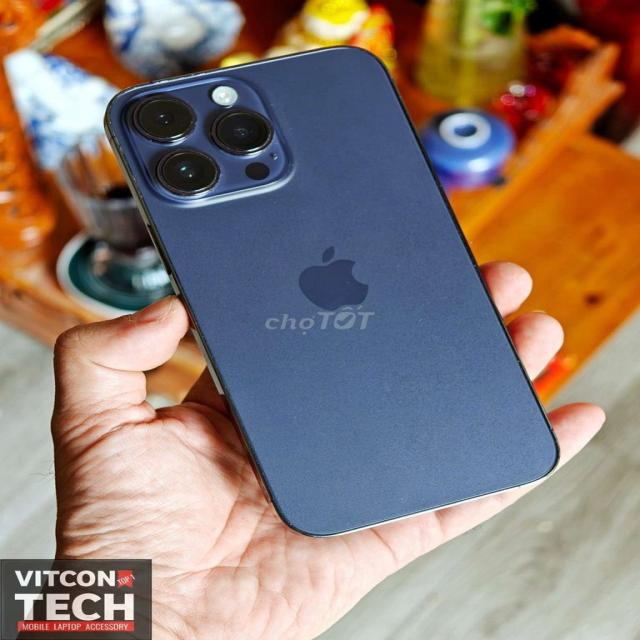gen_14: (99, 43, 562, 545)
